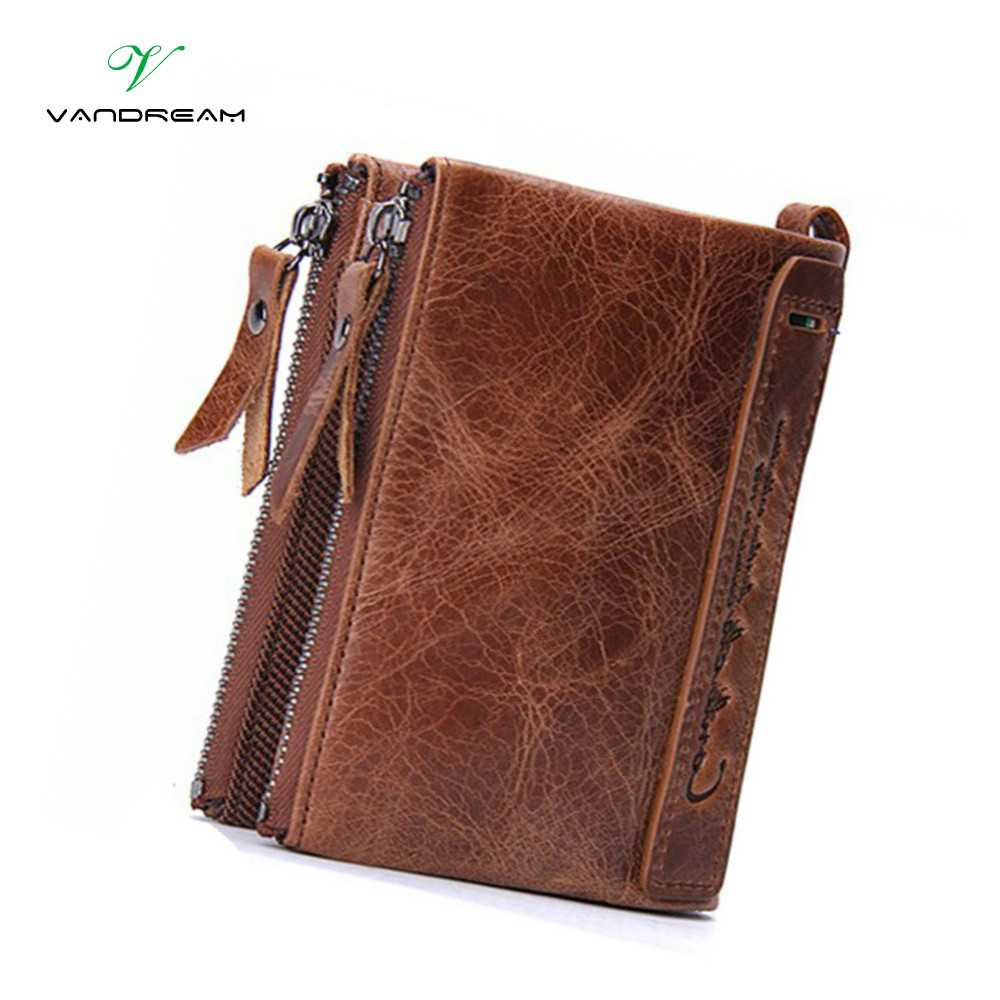monedero: (178, 150, 856, 915)
